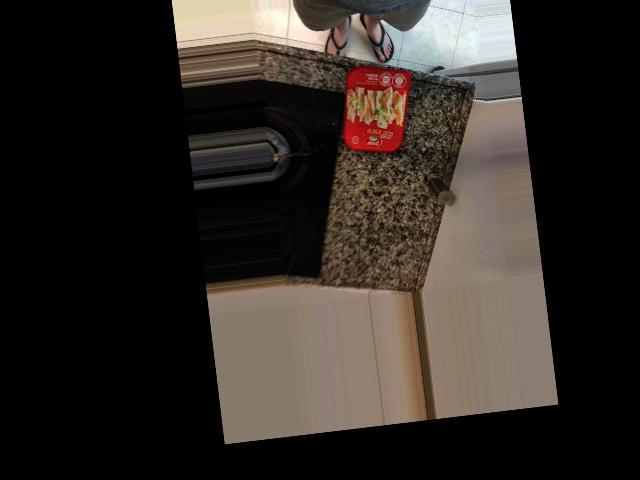cheese: (321, 133, 422, 252)
